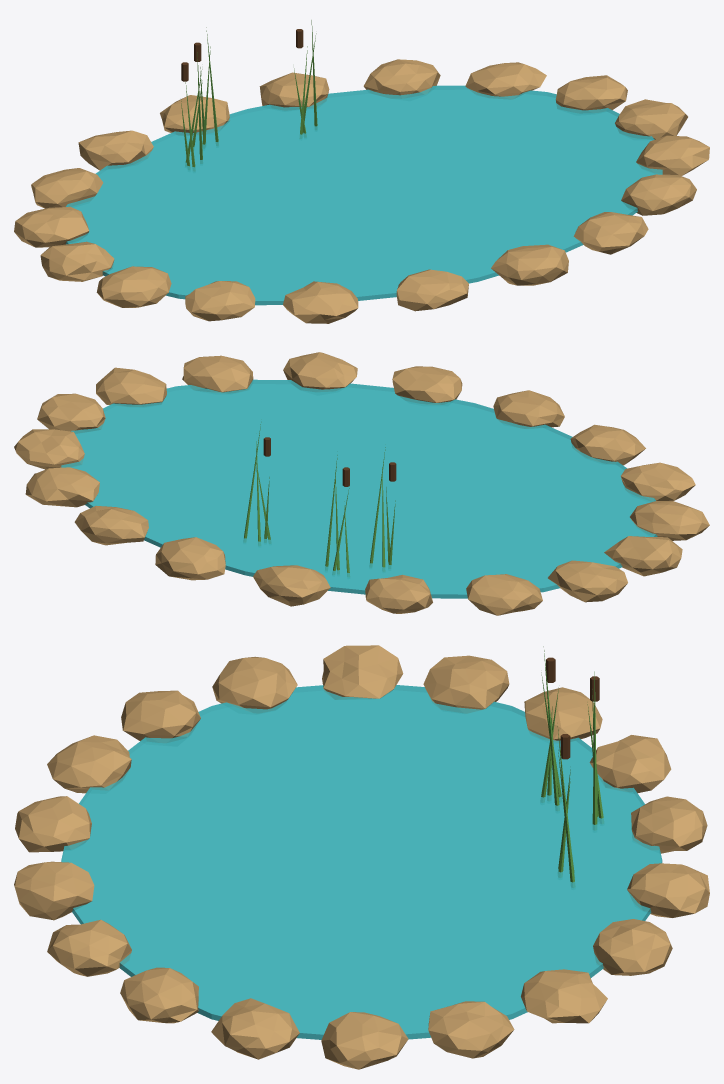
Rendered from map3_oasis_pool_v01.glb.
3 renders of one model, top to bottom at view 1: azimuth 30°, elevation 25°; view 2: azimuth 150°, elevation 25°; view 3: azimuth 270°, elevation 25°, orthographic. The views are drawn at different scales.
Parts seen in each view (by area): view 1: oasis_pool; view 2: oasis_pool; view 3: oasis_pool.
Part boxes in pixels (bbox=[...]): oasis_pool: bbox=[14, 20, 709, 323]; oasis_pool: bbox=[14, 352, 709, 615]; oasis_pool: bbox=[14, 645, 709, 1069].
Bounding box in the file's own units: 7.99 × 1.59 × 5.79.
